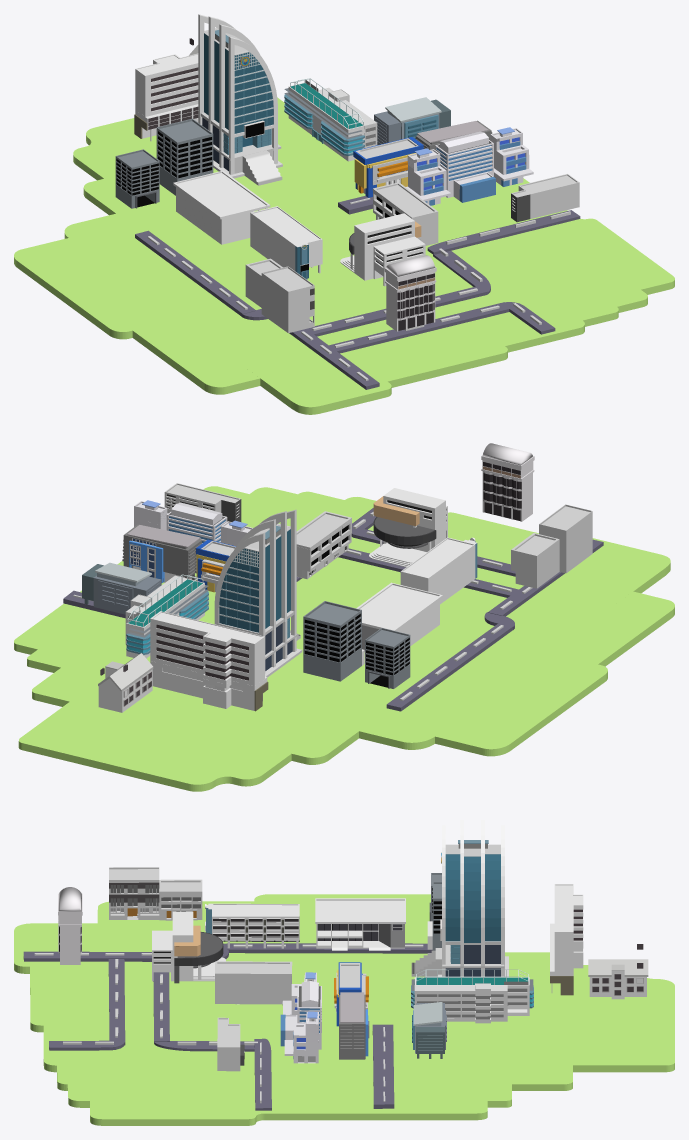
File: scaledmainscene.glb
3 views of the same model, one above another, from view 1: azimuth 30°, elevation 25°; view 2: azimuth 150°, elevation 25°; view 3: azimuth 270°, elevation 25° (orthographic). The views are drawn at different scales.
Parts seen in each view (by area): view 1: MainGround, Cube.201, Cube.207, Cube.204, Cube.004, Cube.093, Cube.206, Back, Cube.208, Cube.200, Cube.203, Cube.205 (+26 smaller); view 2: MainGround, Cube.093, Cube.207, Cube.206, Cube.004, Cube.199, Cube.201, Back, Cube.208, Cube.204, Cube.202, Cube.205 (+26 smaller); view 3: MainGround, Cube.207, Cube.004, Cube.202, Cube.201, Cube.204, Cube.093, Cube.193, Cube.199, Front, ลูกบาศก์.006, ลูกบาศก์.003 (+35 smaller).
Part boxes in pixels (<box>): MainGround: <box>14,97,674,414</box>; Cube.201: <box>406,127,533,205</box>; Cube.207: <box>245,258,314,333</box>; Cube.204: <box>177,173,265,243</box>; Cube.004: <box>204,33,273,133</box>; Cube.093: <box>135,53,198,138</box>; Cube.206: <box>156,118,213,195</box>; Back: <box>250,206,322,270</box>; Cube.208: <box>384,267,436,331</box>; Cube.200: <box>353,137,423,197</box>; Cube.203: <box>511,174,579,222</box>; Cube.205: <box>115,149,159,208</box>; MainGround: <box>14,486,674,791</box>; Cube.093: <box>150,611,267,710</box>; Cube.207: <box>511,504,592,588</box>; Cube.206: <box>303,601,364,681</box>; Cube.004: <box>219,529,290,632</box>; Cube.199: <box>122,524,201,582</box>; Cube.201: <box>134,500,252,546</box>; Back: <box>400,537,475,604</box>; Cube.208: <box>481,455,534,521</box>; Cube.204: <box>360,585,439,644</box>; Cube.202: <box>296,511,351,579</box>; Cube.205: <box>365,628,410,688</box>; MainGround: <box>14,894,674,1125</box>; Cube.207: <box>109,867,202,920</box>; Cube.004: <box>445,854,500,942</box>; Cube.202: <box>215,961,292,1004</box>; Cube.201: <box>280,972,321,1063</box>; Cube.204: <box>316,900,404,940</box>; Cube.093: <box>550,884,583,975</box>; Cube.193: <box>414,983,507,1023</box>; Cube.199: <box>339,992,369,1059</box>; Front: <box>212,918,299,940</box>; ลูกบาศก์.006: <box>372,1024,394,1108</box>; ลูกบาศก์.003: <box>227,943,432,953</box>.
Size of the model in its own units: 34.19 by 12.8 by 42.48.
106 materials, 2 textured.
